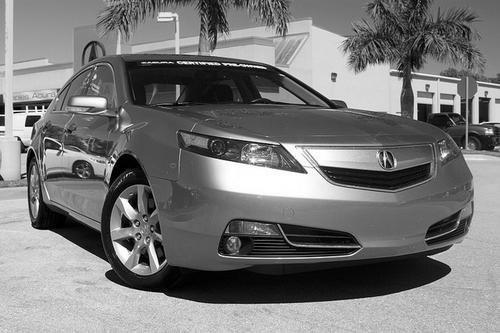car: (26, 49, 477, 288)
